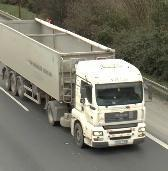truck: (0, 16, 145, 150)
